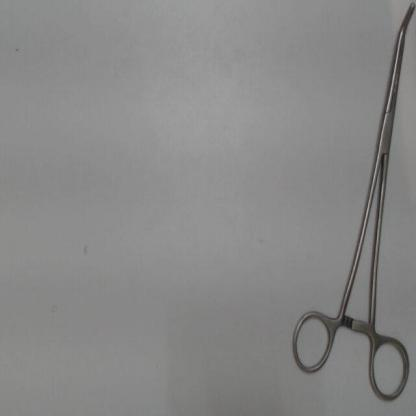Lahey Forceps: (278, 2, 416, 408)
